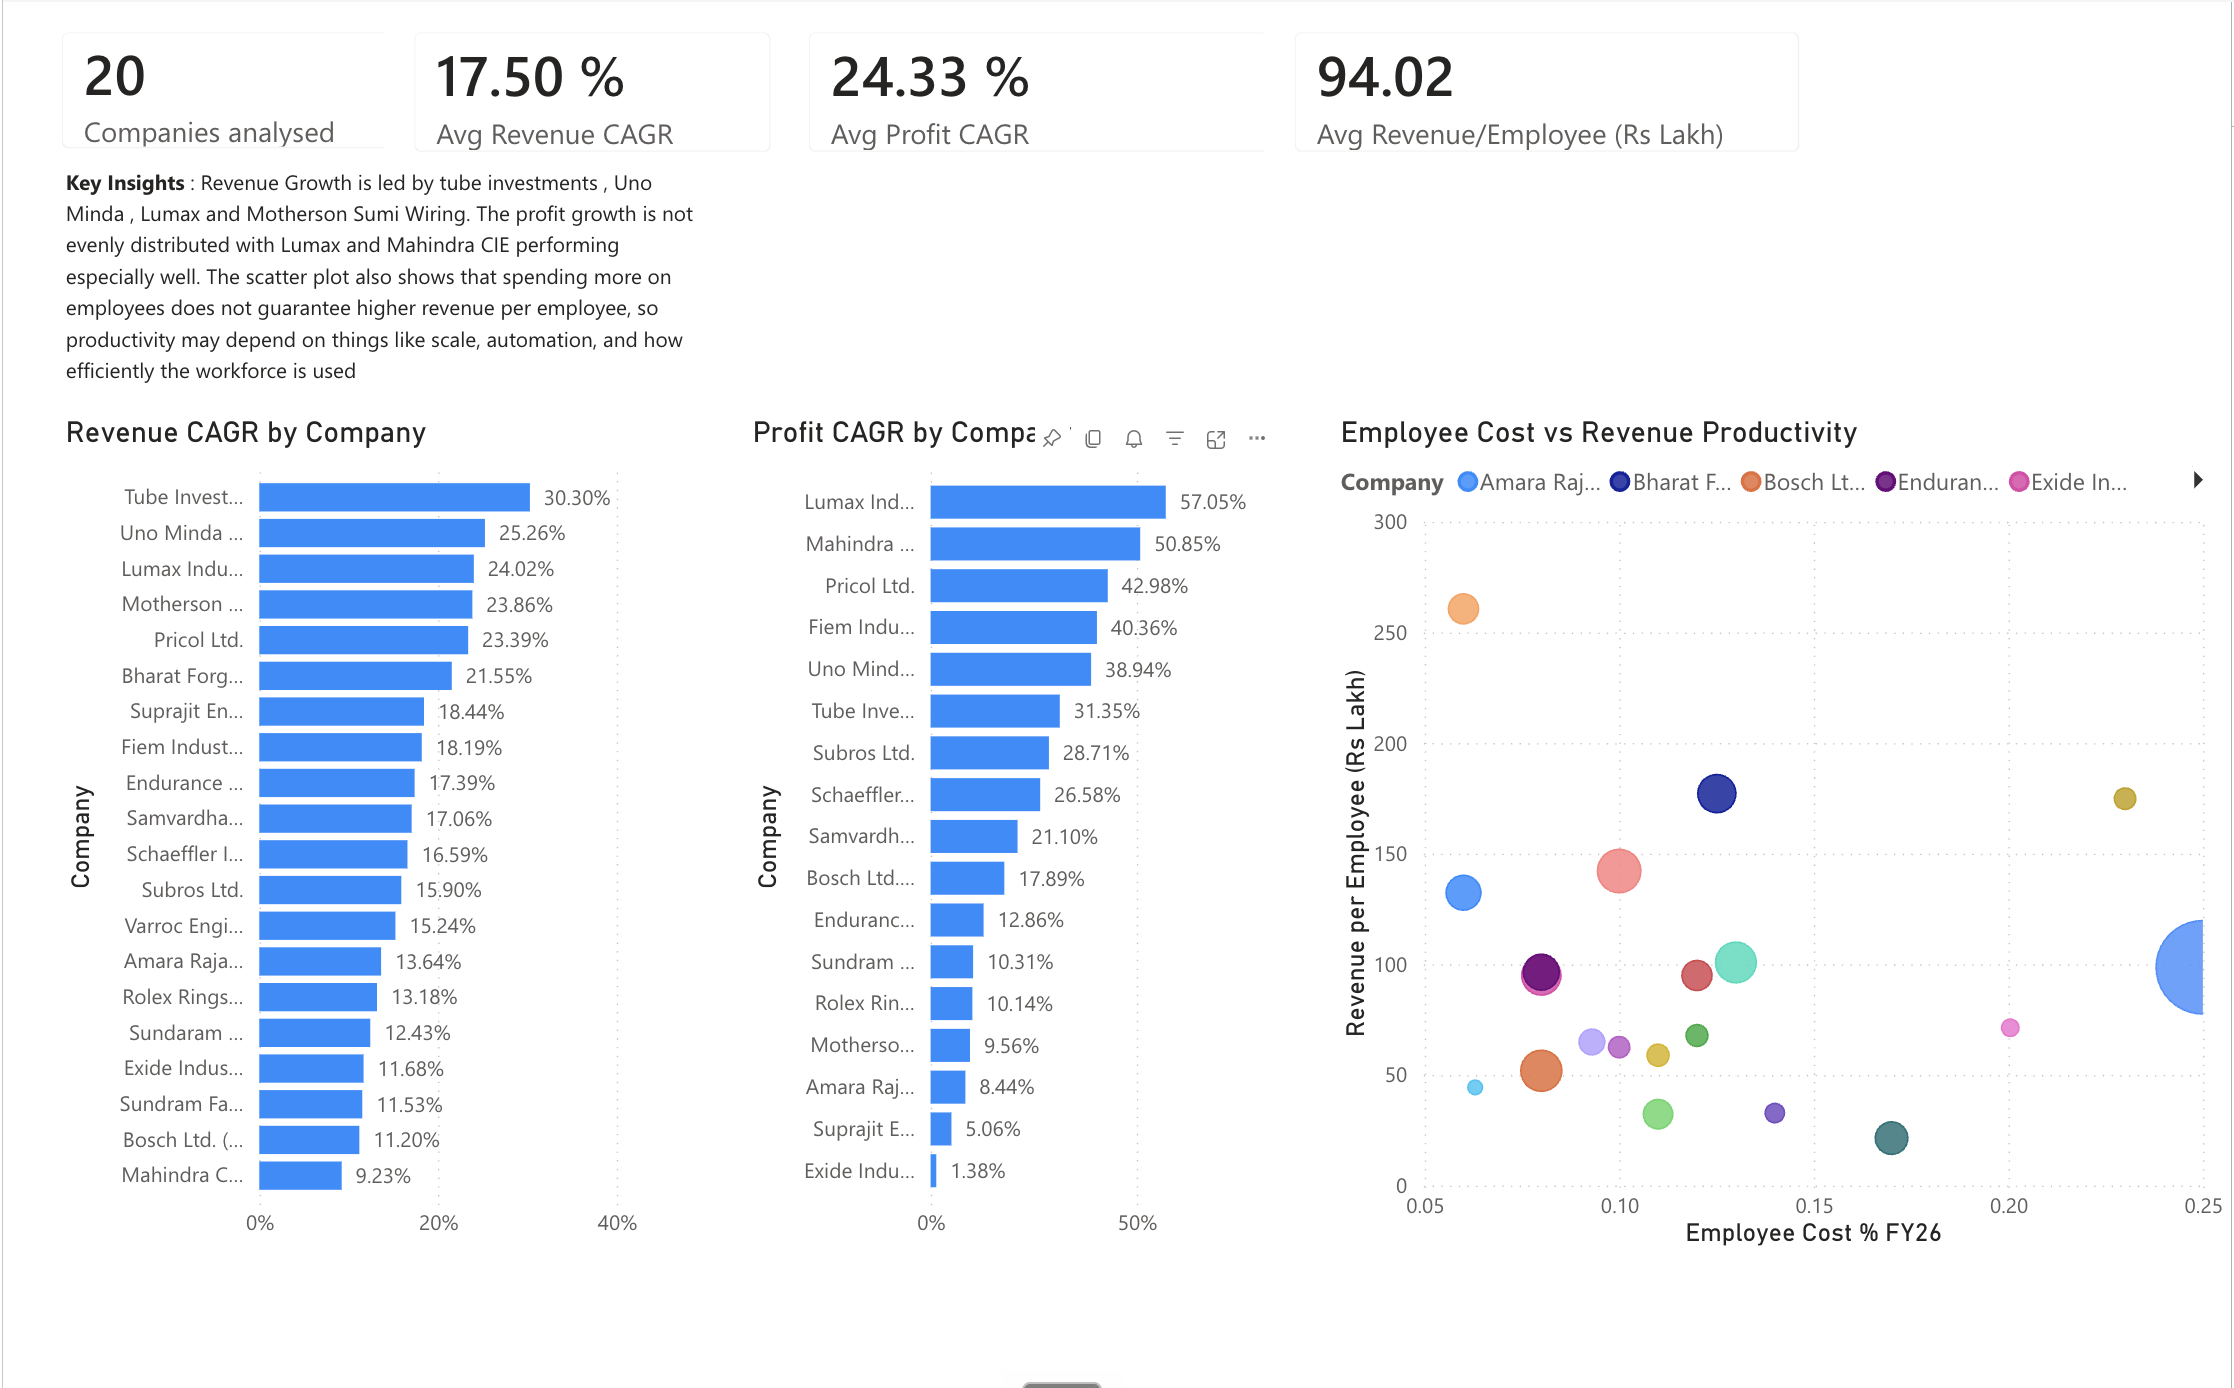

This screenshot's page, from the dashboard's own definition file:
{"tool":"powerbi","page":{"name":"Financial Overview","canvas":[1280,720],"ordinal":0},"visuals":[{"type":"cardVisual","fields":{"Data":["CountNonNull(Dashboard_Data.Company)"]},"box":[16.6,0,225,101],"z":1},{"type":"cardVisual","fields":{"Data":["Avg(Dashboard_Data.RevenueCAGR)"]},"box":[218.9,0,239.3,103.4],"z":2},{"type":"cardVisual","fields":{"Data":["Avg(Dashboard_Data.ProfitCAGR)"]},"box":[445.6,0,299.5,103.4],"z":3},{"type":"cardVisual","fields":{"Data":["Avg(Dashboard_Data.Revenue per EmployeeFY26 (Rs Lakh))"]},"box":[725,0,324.2,103.4],"z":4},{"type":"clusteredBarChart","title":"Revenue CAGR by Company ","fields":{"Category":["Dashboard_Data.Company"],"Y":["Sum(Dashboard_Data.RevenueCAGR)"]},"box":[31.3,239.4,338.1,479.8],"z":5},{"type":"clusteredBarChart","title":" Profit CAGR by Company","fields":{"Category":["Dashboard_Data.Company"],"Y":["Sum(Dashboard_Data.ProfitCAGR)"]},"box":[426,239.4,305.8,479.8],"z":6},{"type":"scatterChart","title":" Employee Cost vs Revenue Productivity ","fields":{"Series":["Dashboard_Data.Company"],"Size":["Sum(Dashboard_Data.RevenueFY26 (Cr))"],"X":["Avg(Dashboard_Data.EmployeeCost % FY26)"],"Y":["Avg(Dashboard_Data.Revenue per EmployeeFY26 (Rs Lakh))"]},"box":[763.1,239.4,516.9,479.8],"z":8},{"type":"textbox","box":[31.3,87.9,374.2,138.7],"z":9}]}

Visuals, with their boxes on the page's 1280x720 design canvas (x1, y1, x2, y2). These are canvas units, not pixel positions in the 2234x1388 screenshot, which may show the page scaled, cropped or inside an application window:
cardVisual - CountNonNull(Dashboard_Data.Company): 17, 0, 242, 101
cardVisual - Avg(Dashboard_Data.RevenueCAGR): 219, 0, 458, 103
cardVisual - Avg(Dashboard_Data.ProfitCAGR): 446, 0, 745, 103
cardVisual - Avg(Dashboard_Data.Revenue per EmployeeFY26 (Rs Lakh)): 725, 0, 1049, 103
"Revenue CAGR by Company " clusteredBarChart: 31, 239, 369, 719
" Profit CAGR by Company" clusteredBarChart: 426, 239, 732, 719
" Employee Cost vs Revenue Productivity " scatterChart: 763, 239, 1280, 719
textbox: 31, 88, 406, 227
